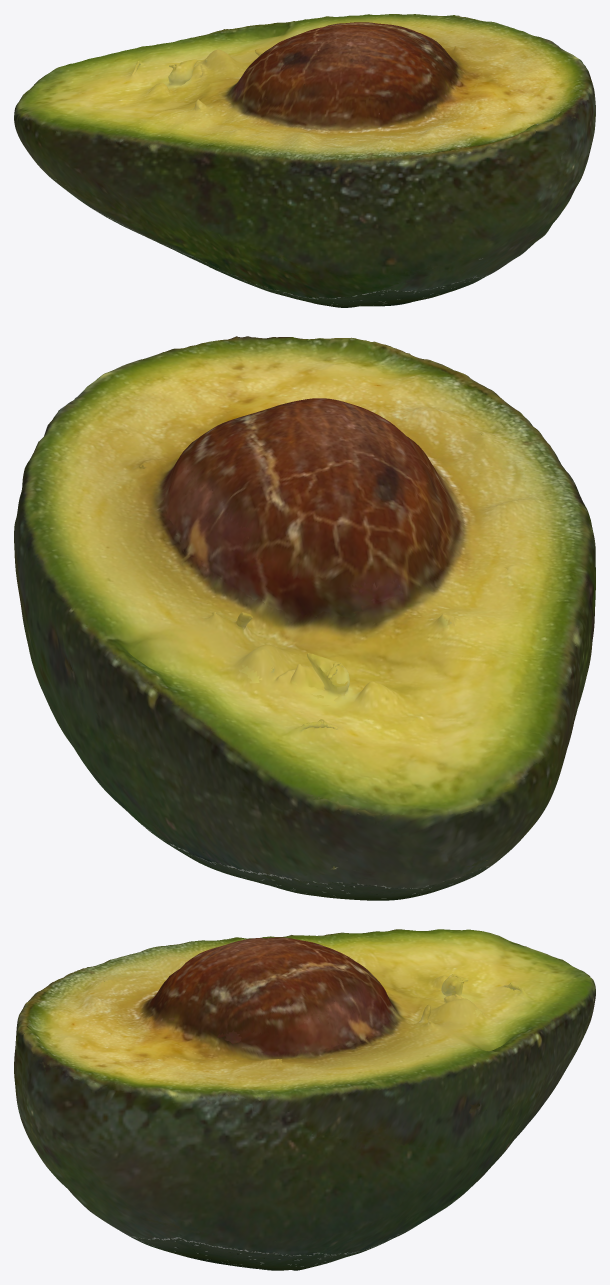
Rendered from Avocado2.glb.
3 views of the same model, one above another, from view 1: azimuth 30°, elevation 25°; view 2: azimuth 150°, elevation 25°; view 3: azimuth 270°, elevation 25° (orthographic). The views are drawn at different scales.
Parts seen in each view (by area): view 1: Object_2, Object_3, Object_5, Object_4; view 2: Object_2, Object_3, Object_5; view 3: Object_2, Object_3, Object_5, Object_4.
Part boxes in pixels (x1=…): Object_2: x1=16, y1=14, x2=595, y2=278; Object_3: x1=29, y1=23, x2=595, y2=298; Object_5: x1=14, y1=59, x2=584, y2=303; Object_4: x1=198, y1=261, x2=477, y2=307; Object_2: x1=14, y1=336, x2=595, y2=817; Object_3: x1=14, y1=526, x2=595, y2=900; Object_5: x1=16, y1=575, x2=593, y2=895; Object_2: x1=14, y1=929, x2=595, y2=1254; Object_3: x1=14, y1=929, x2=595, y2=1262; Object_5: x1=17, y1=940, x2=594, y2=1267; Object_4: x1=150, y1=1216, x2=432, y2=1270.
Bounding box in the file's own units: 104 × 61.07 × 109.
1 material, 1 textured.
